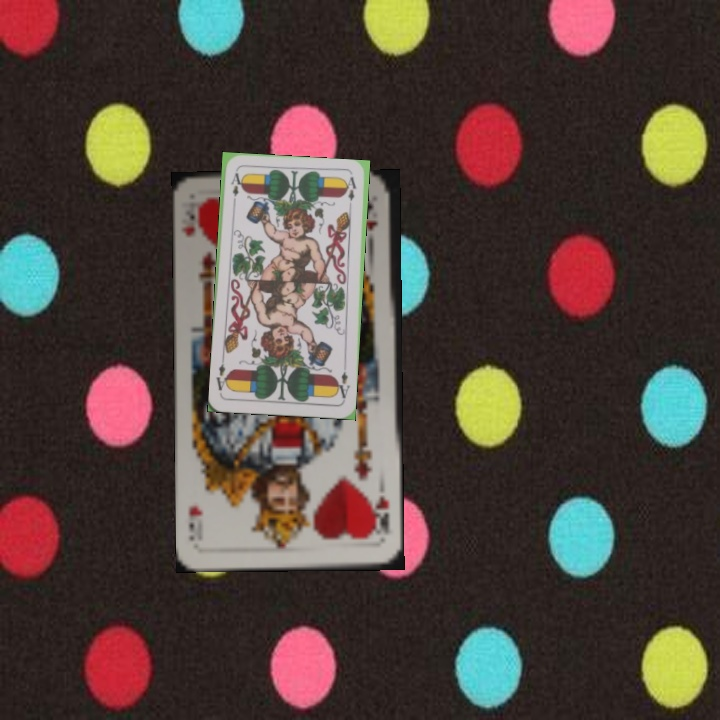EA: (332, 362, 352, 403), (227, 169, 243, 199)
HK: (368, 491, 392, 538), (179, 197, 203, 239)
